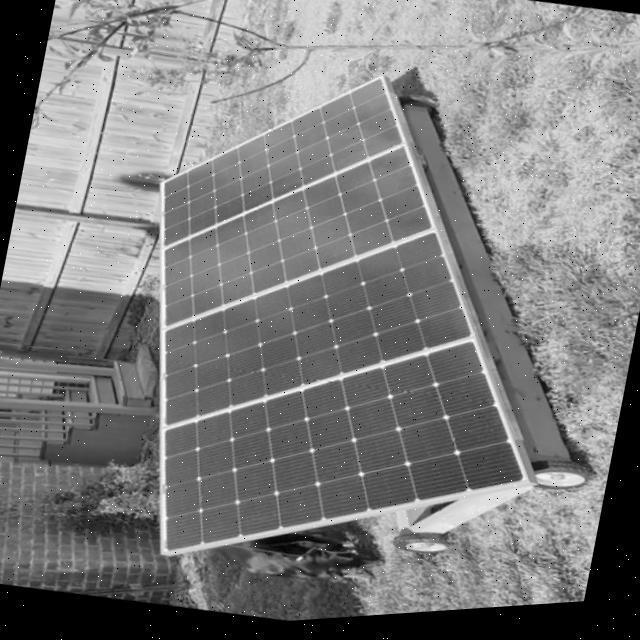Normal Solar Panel: (92, 30, 602, 621)
